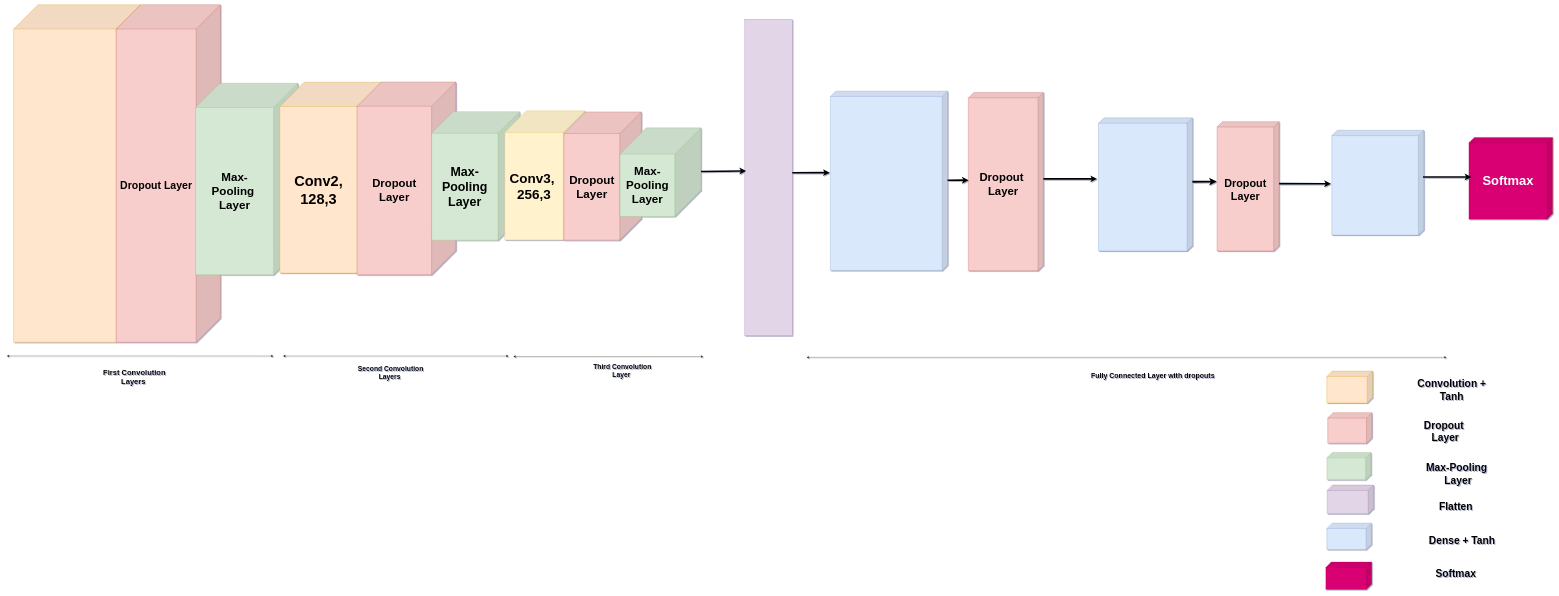
This 1559x596 diagram has some shape labels left out. The shapes that lost their labels are listed below. From the top down, each one's centre as x and y in pixels, then its label:
At (77,173): "Conv1, 64,3".
At (768,177): "Flatten Layer".
At (889,180): "Dense Layer1, 256".
At (1145,184): "Dense Layer2, 128".
At (1378,182): "Dense Layer3, 64".
